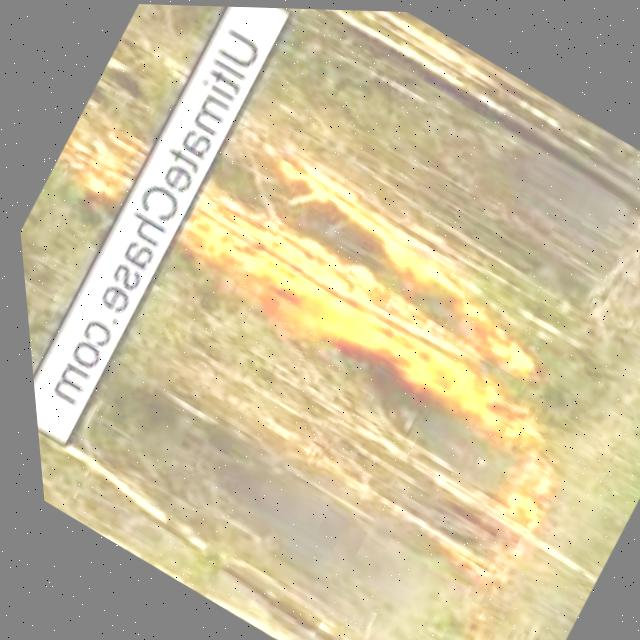Fire: (156, 115, 577, 453), (463, 439, 569, 552), (45, 105, 151, 209)
